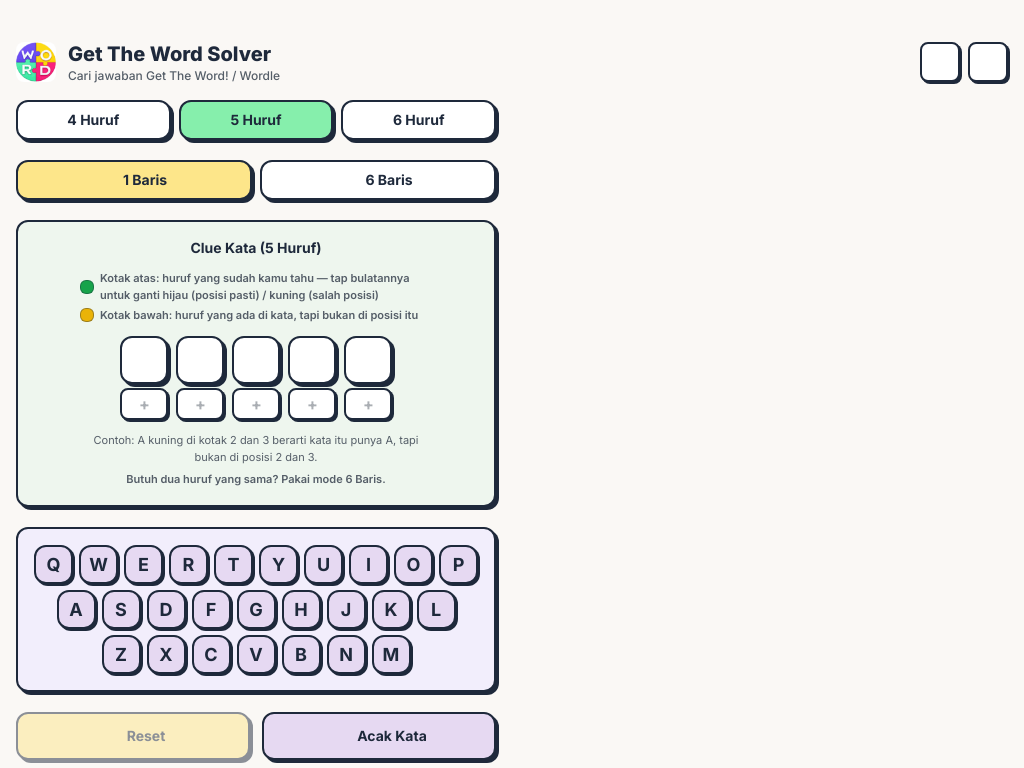
Scenario: renamed settings labels › uses the Indonesian wording asked for
Click the button named "Settings": (988, 62) top-left (968, 42), bottom-right (1008, 82)
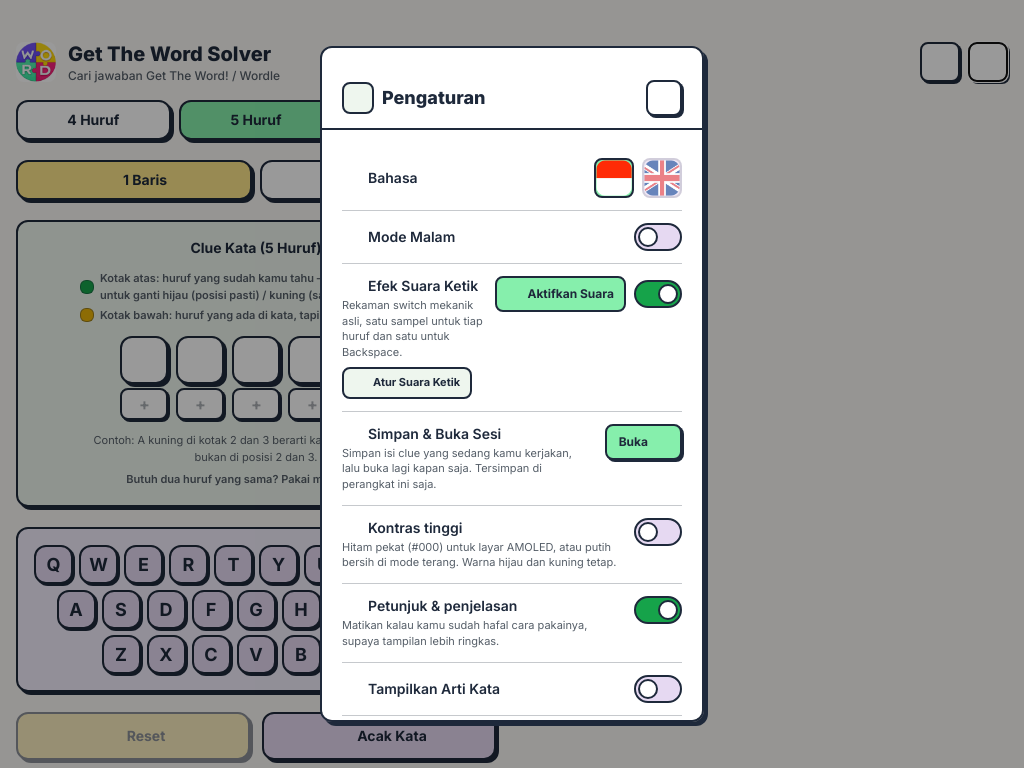
expect the text "Mode Malam" is shown: met, box top-left (342, 227), bottom-right (455, 247)
expect the text "Efek Suara Ketik" is shown: met, box top-left (342, 276), bottom-right (483, 296)
expect the text "Rekaman switch mekanik asli" is shown: met, box top-left (342, 298), bottom-right (483, 359)
